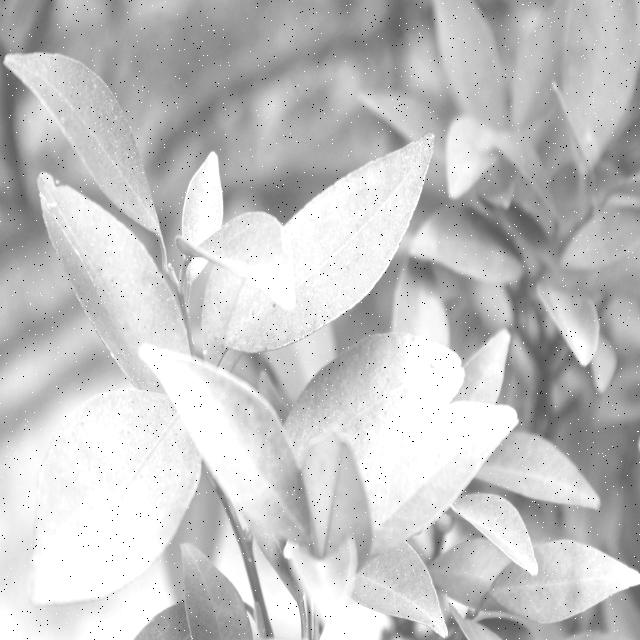blackspot: (54, 405, 166, 566), (61, 214, 146, 338), (319, 351, 436, 427), (237, 285, 281, 352)
